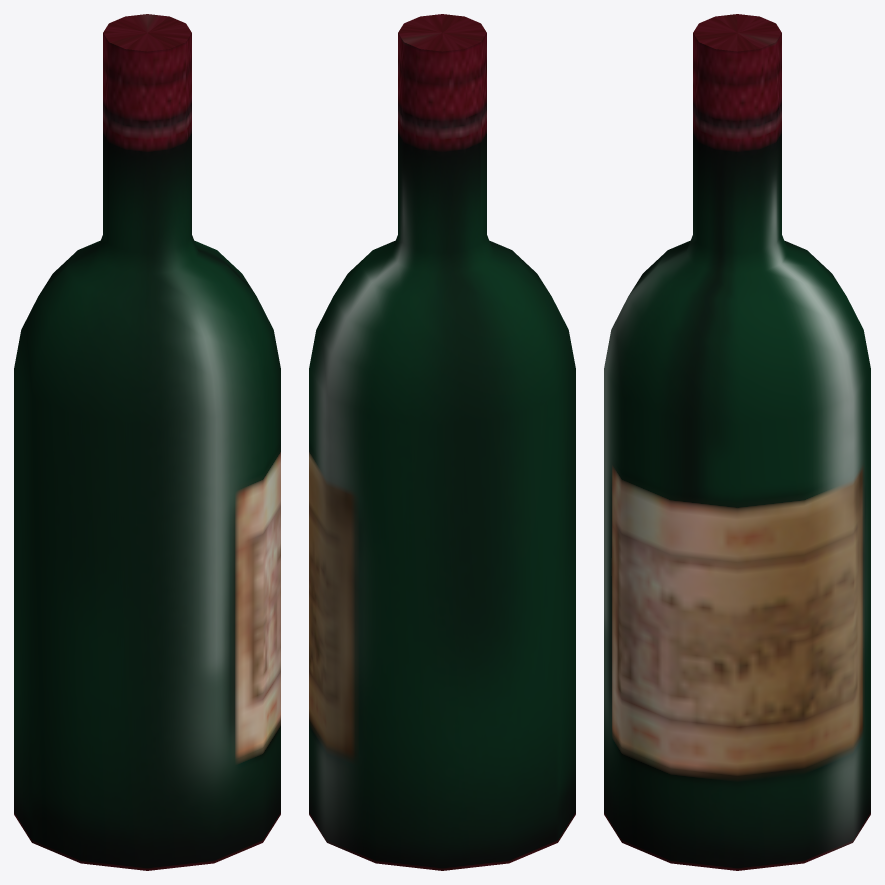
The model's file is Bottle1.fbx.
3 renders of one model, left to right at view 1: azimuth 30°, elevation 25°; view 2: azimuth 150°, elevation 25°; view 3: azimuth 270°, elevation 25°, orthographic.
Parts seen in each view (by area): view 1: Empty_Mesh; view 2: Empty_Mesh; view 3: Empty_Mesh.
Part boxes in pixels (box(x1,y1,x2,y2)): Empty_Mesh: box(14, 14, 280, 870); Empty_Mesh: box(309, 14, 575, 870); Empty_Mesh: box(604, 14, 870, 870).
Size of the model in its own units: 10.99 by 35.52 by 10.99.
